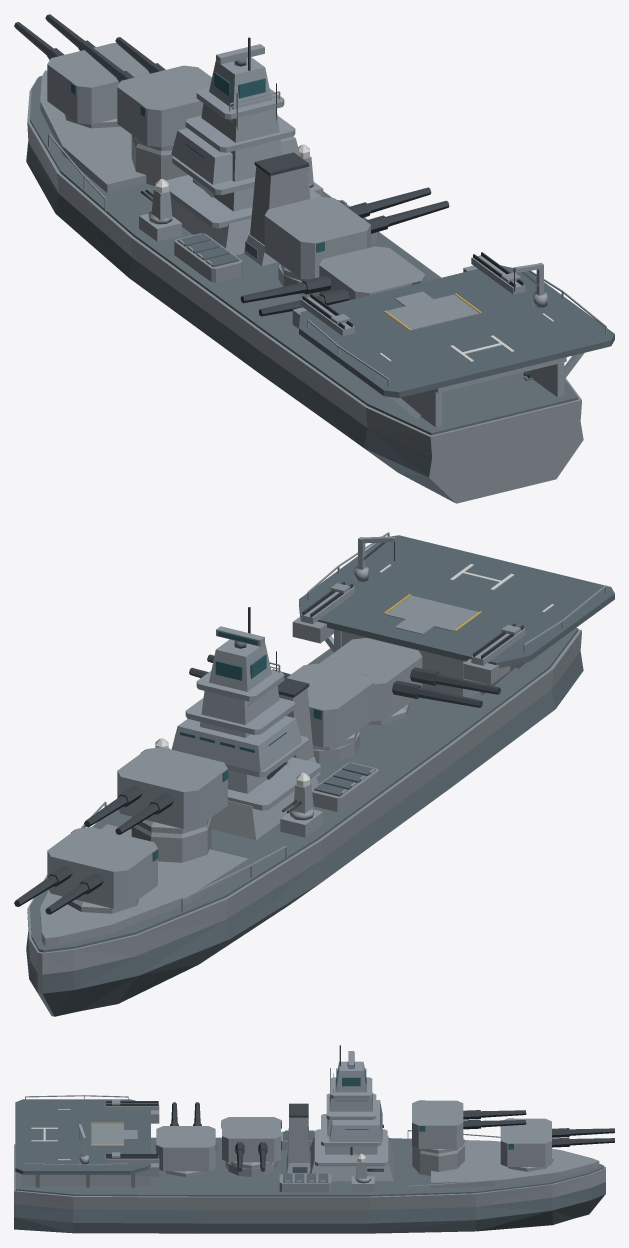
Rendered from EnemyHybridBoss.fbx.
The picture shows the model from 3 angles, top to bottom: view 1: azimuth 30°, elevation 25°; view 2: azimuth 150°, elevation 25°; view 3: azimuth 270°, elevation 25°; orthographic projection. The views are drawn at different scales.
Visible parts, largest first — view 1: EnemyHybridBoss_Visual, MainGun_03_Visual, MainGun_02_Visual, MainGun_01_Visual, MainGun_04_Visual, MainGun_Elevation_04_Visual, MainGun_Elevation_03_Visual, MainGun_Elevation_02_Visual, MainGun_Elevation_01_Visual, CatapultPortPivot_Visual, CatapultStarboardPivot_Visual, CiwsPortPivot_Visual; view 2: EnemyHybridBoss_Visual, MainGun_01_Visual, MainGun_02_Visual, MainGun_03_Visual, MainGun_04_Visual, MainGun_Elevation_04_Visual, MainGun_Elevation_01_Visual, MainGun_Elevation_02_Visual, CatapultPortPivot_Visual, CatapultStarboardPivot_Visual, CiwsPortPivot_Visual; view 3: EnemyHybridBoss_Visual, MainGun_04_Visual, MainGun_02_Visual, MainGun_03_Visual, MainGun_01_Visual, MainGun_Elevation_02_Visual, MainGun_Elevation_01_Visual, CatapultStarboardPivot_Visual, CatapultPortPivot_Visual, MainGun_Elevation_03_Visual, CiwsStarboardPivot_Visual, MainGun_Elevation_04_Visual.
Part boxes in pixels (left/top/right/bottom): EnemyHybridBoss_Visual: left=26, top=37, right=614, bottom=503; MainGun_03_Visual: left=264, top=196, right=370, bottom=279; MainGun_02_Visual: left=117, top=65, right=211, bottom=147; MainGun_01_Visual: left=47, top=43, right=149, bottom=124; MainGun_04_Visual: left=319, top=246, right=425, bottom=299; MainGun_Elevation_04_Visual: left=240, top=276, right=349, bottom=316; MainGun_Elevation_03_Visual: left=347, top=187, right=449, bottom=233; MainGun_Elevation_02_Visual: left=84, top=37, right=165, bottom=82; MainGun_Elevation_01_Visual: left=14, top=14, right=95, bottom=59; CatapultPortPivot_Visual: left=300, top=293, right=354, bottom=336; CatapultStarboardPivot_Visual: left=471, top=252, right=525, bottom=294; CiwsPortPivot_Visual: left=148, top=179, right=172, bottom=224; EnemyHybridBoss_Visual: left=26, top=532, right=614, bottom=1016; MainGun_01_Visual: left=47, top=827, right=158, bottom=908; MainGun_02_Visual: left=117, top=747, right=228, bottom=828; MainGun_03_Visual: left=287, top=663, right=373, bottom=747; MainGun_04_Visual: left=319, top=638, right=422, bottom=721; MainGun_Elevation_04_Visual: left=392, top=667, right=500, bottom=707; MainGun_Elevation_01_Visual: left=14, top=865, right=103, bottom=914; MainGun_Elevation_02_Visual: left=84, top=785, right=173, bottom=834; CatapultPortPivot_Visual: left=471, top=623, right=525, bottom=665; CatapultStarboardPivot_Visual: left=300, top=582, right=354, bottom=624; CiwsPortPivot_Visual: left=290, top=772, right=313, bottom=820; EnemyHybridBoss_Visual: left=14, top=1045, right=605, bottom=1233; MainGun_04_Visual: left=155, top=1126, right=216, bottom=1171; MainGun_02_Visual: left=412, top=1100, right=463, bottom=1148; MainGun_03_Visual: left=221, top=1117, right=281, bottom=1162; MainGun_01_Visual: left=500, top=1118, right=551, bottom=1166; MainGun_Elevation_02_Visual: left=463, top=1110, right=526, bottom=1129; MainGun_Elevation_01_Visual: left=552, top=1128, right=614, bottom=1147; CatapultStarboardPivot_Visual: left=105, top=1152, right=158, bottom=1163; CatapultPortPivot_Visual: left=105, top=1099, right=158, bottom=1110; MainGun_Elevation_03_Visual: left=235, top=1142, right=267, bottom=1171; CiwsStarboardPivot_Visual: left=355, top=1153, right=370, bottom=1183; MainGun_Elevation_04_Visual: left=170, top=1102, right=201, bottom=1125.
Bounding box in the file's own units: 473 × 502 × 1625.
